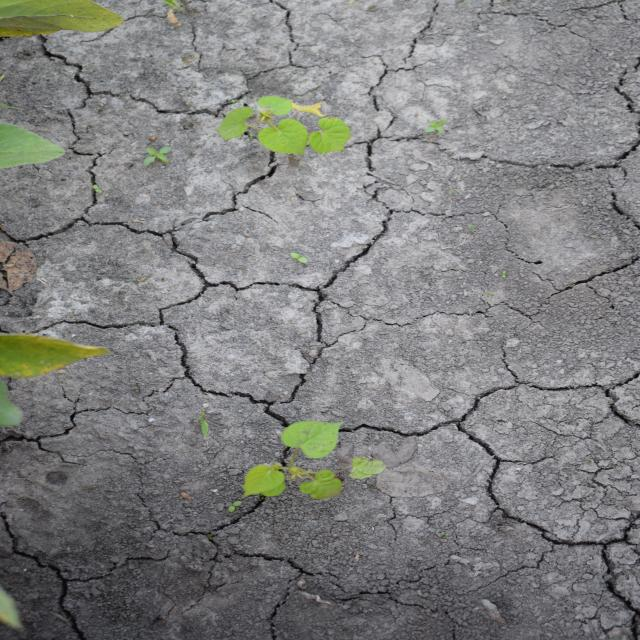MorningGlory: (240, 418, 388, 502), (216, 95, 354, 156)
